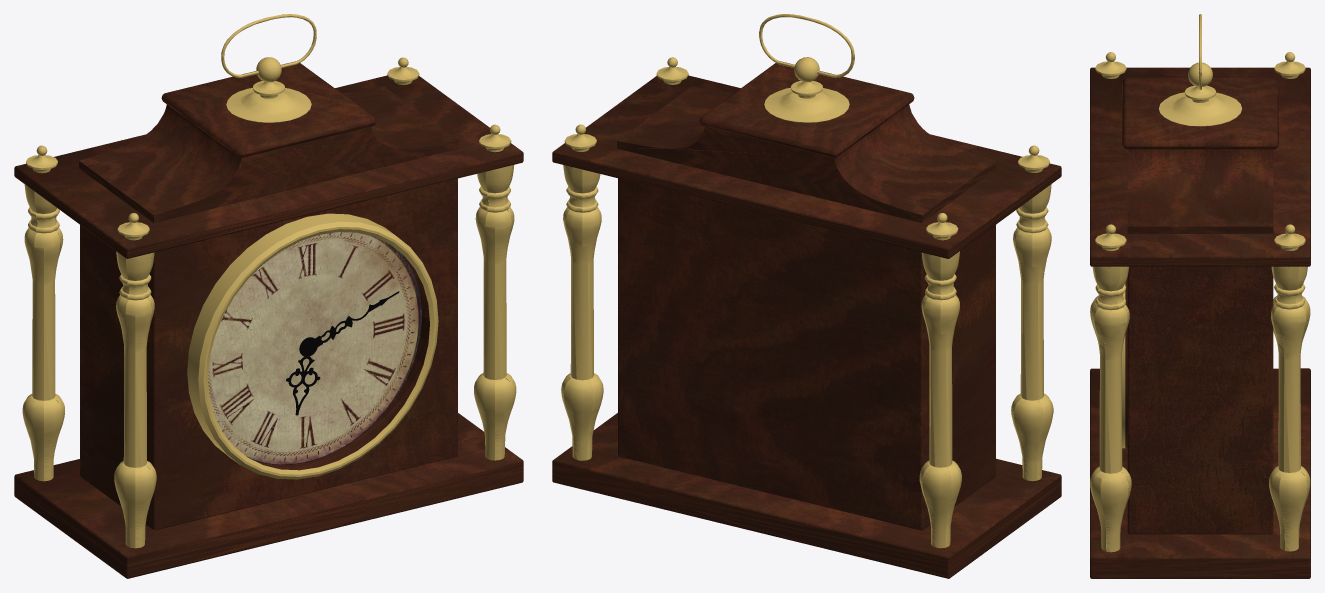
The model's file is Clock 9.fbx.
The picture shows the model from 3 angles, left to right: view 1: azimuth 30°, elevation 25°; view 2: azimuth 150°, elevation 25°; view 3: azimuth 270°, elevation 25°; orthographic projection. The views are drawn at different scales.
Parts seen in each view (by area): view 1: clock 9, minutes, hours; view 2: clock 9; view 3: clock 9.
Boxes of the visible parts, bbox=[...] form: clock 9: bbox=[14, 14, 523, 578]; minutes: bbox=[301, 291, 399, 355]; hours: bbox=[286, 337, 320, 415]; clock 9: bbox=[552, 14, 1061, 578]; clock 9: bbox=[1090, 14, 1310, 578].
Size of the model in its own units: 41.43 by 47.07 by 20.42.
4 materials, 2 textured.
